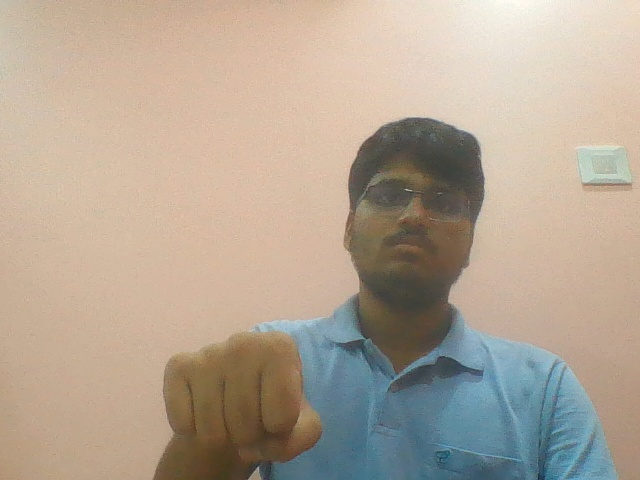yes: (145, 323, 335, 466)
